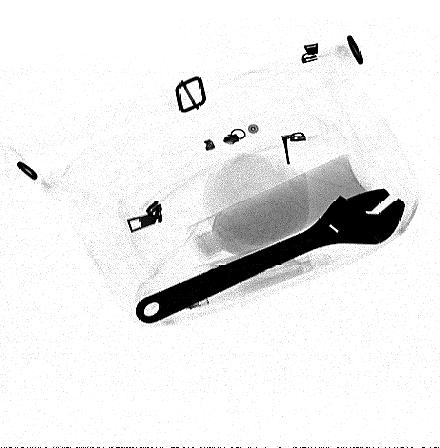Wrench: (134, 189, 406, 322)
